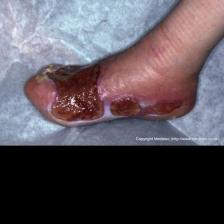Wound: (43, 63, 106, 122), (108, 93, 187, 119)
